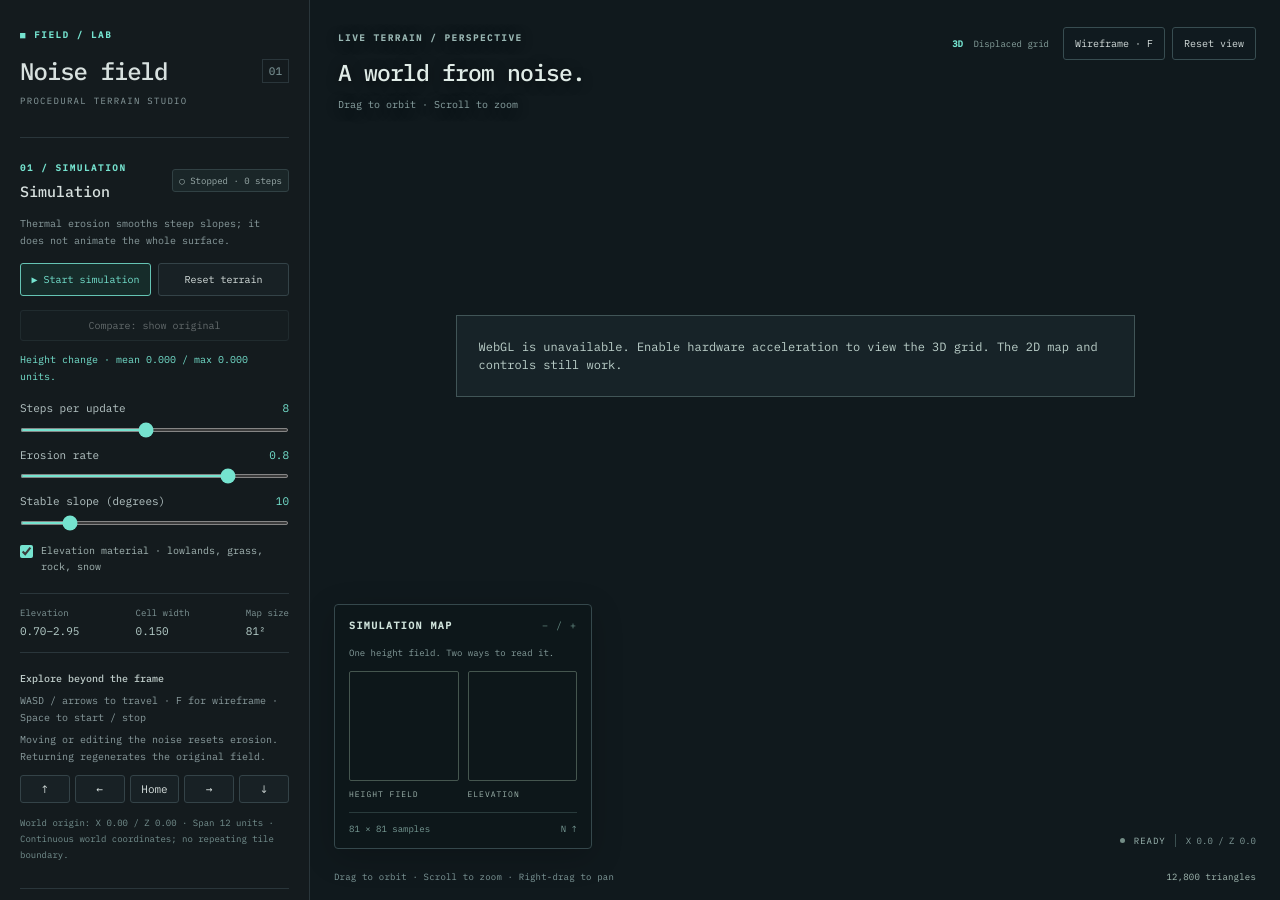
Scenario: keyboard shortcuts toggle wireframe and simulation; navigation resets the terrain
Press f
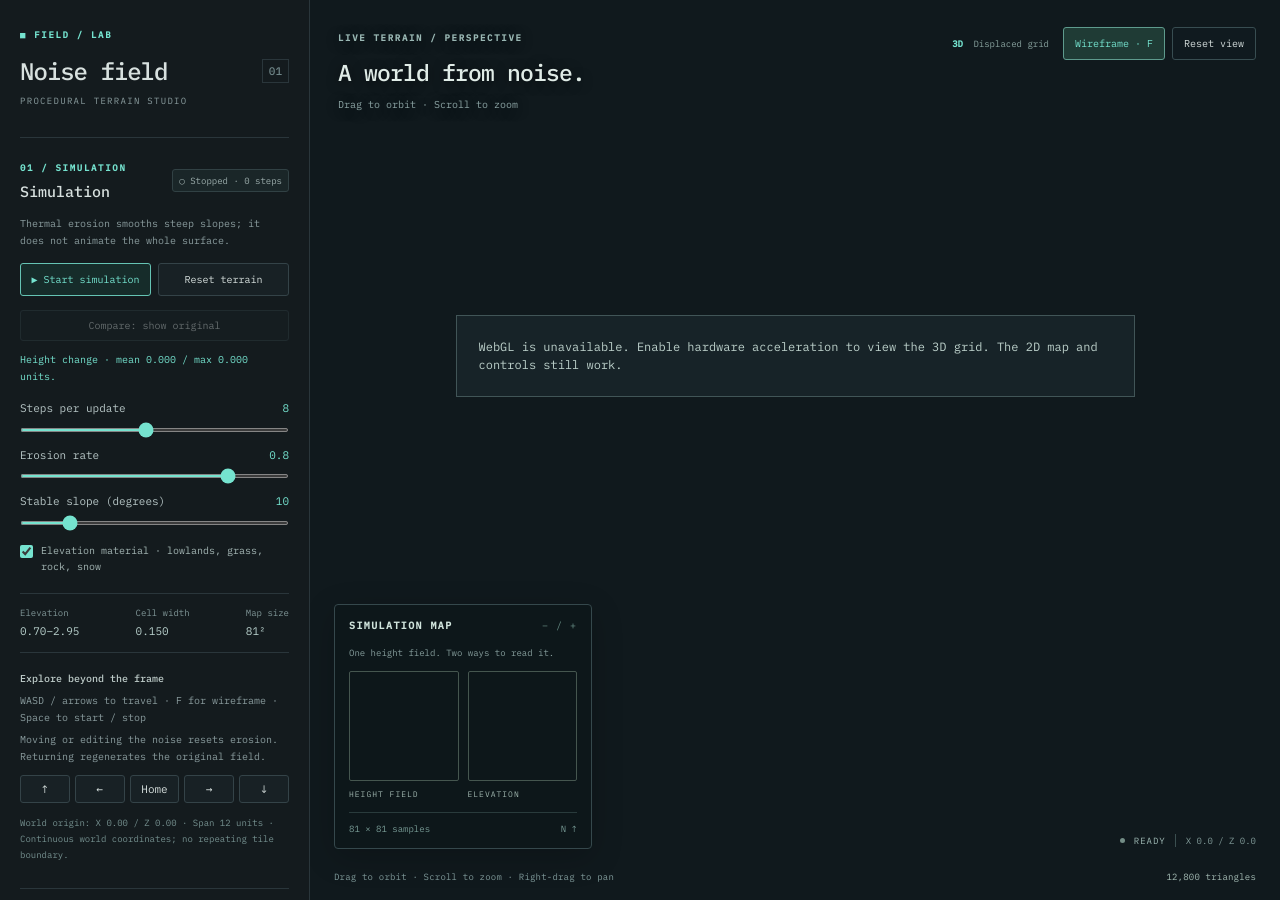
Expected: the button "Wireframe · F" is pressed, [1063, 27, 1165, 60]
Press Space
Wait 100 ms
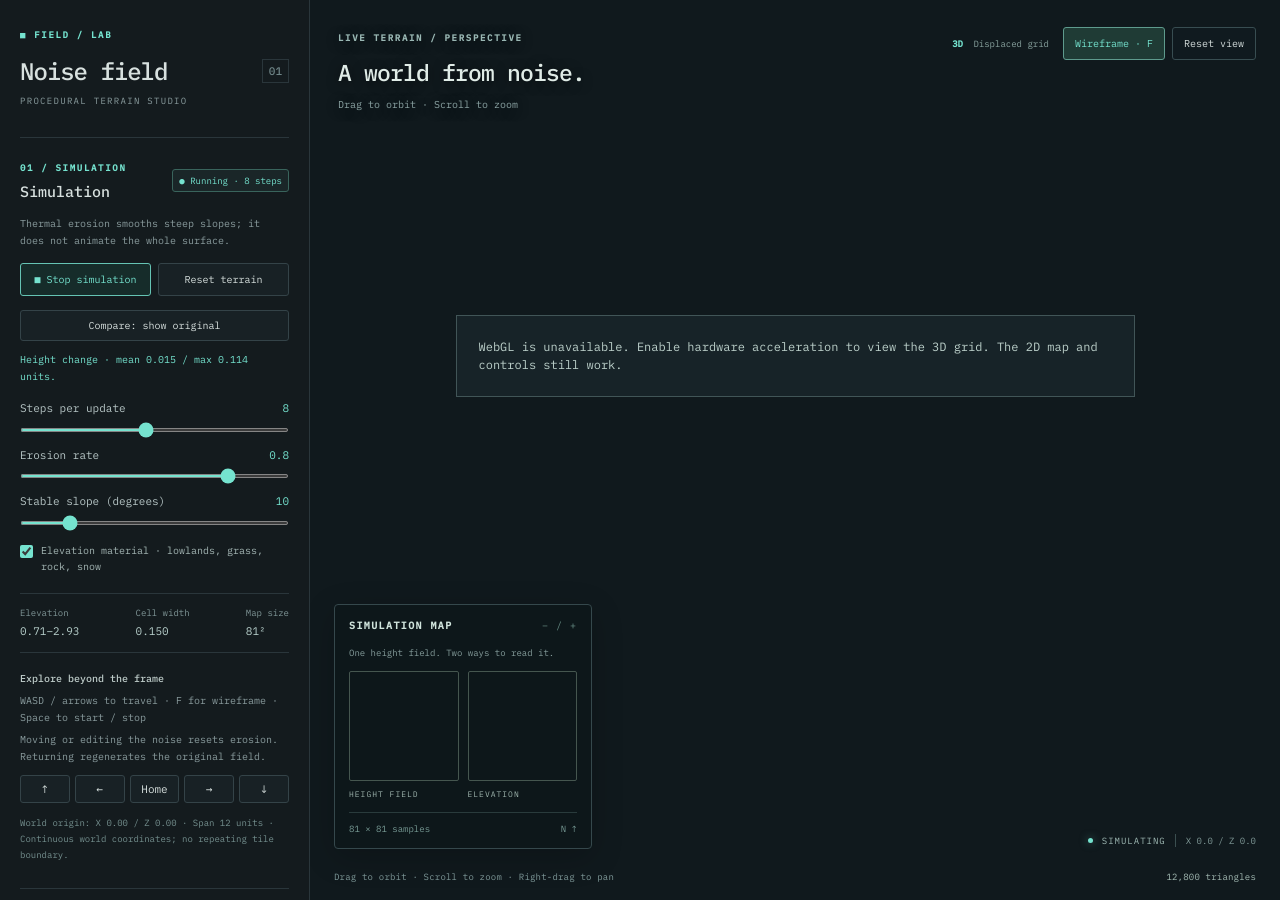
Expected: the message named "Simulation status" shows "Running · 8 steps", [172, 168, 289, 192]
Press ArrowRight
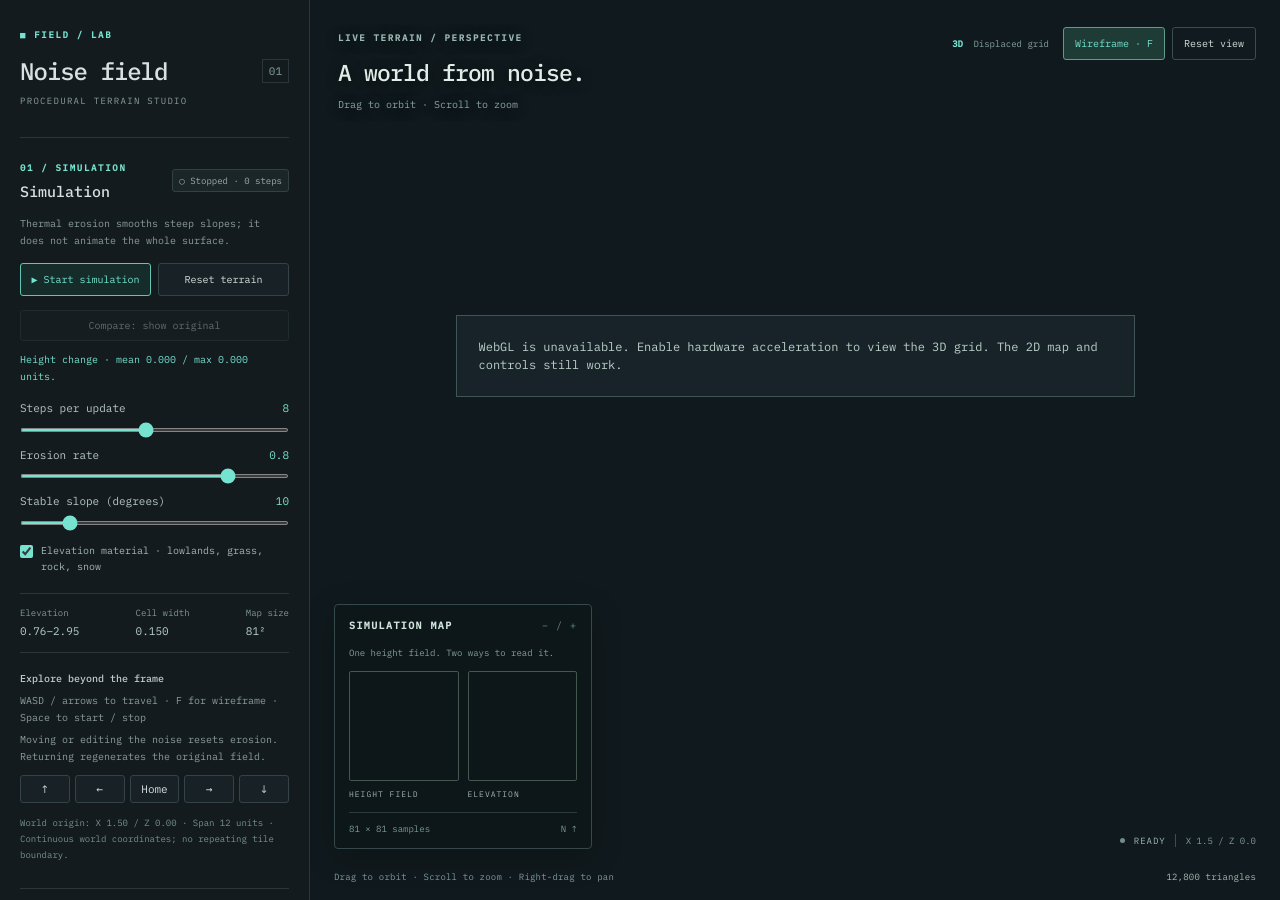
Expected: the text "World origin:" shows "X 1.50", [20, 815, 289, 864]
Expected: the message named "Simulation status" shows "Stopped · 0 steps", [172, 168, 289, 192]
Click the button "Home".
click(154, 789)  # box [130, 774, 179, 803]
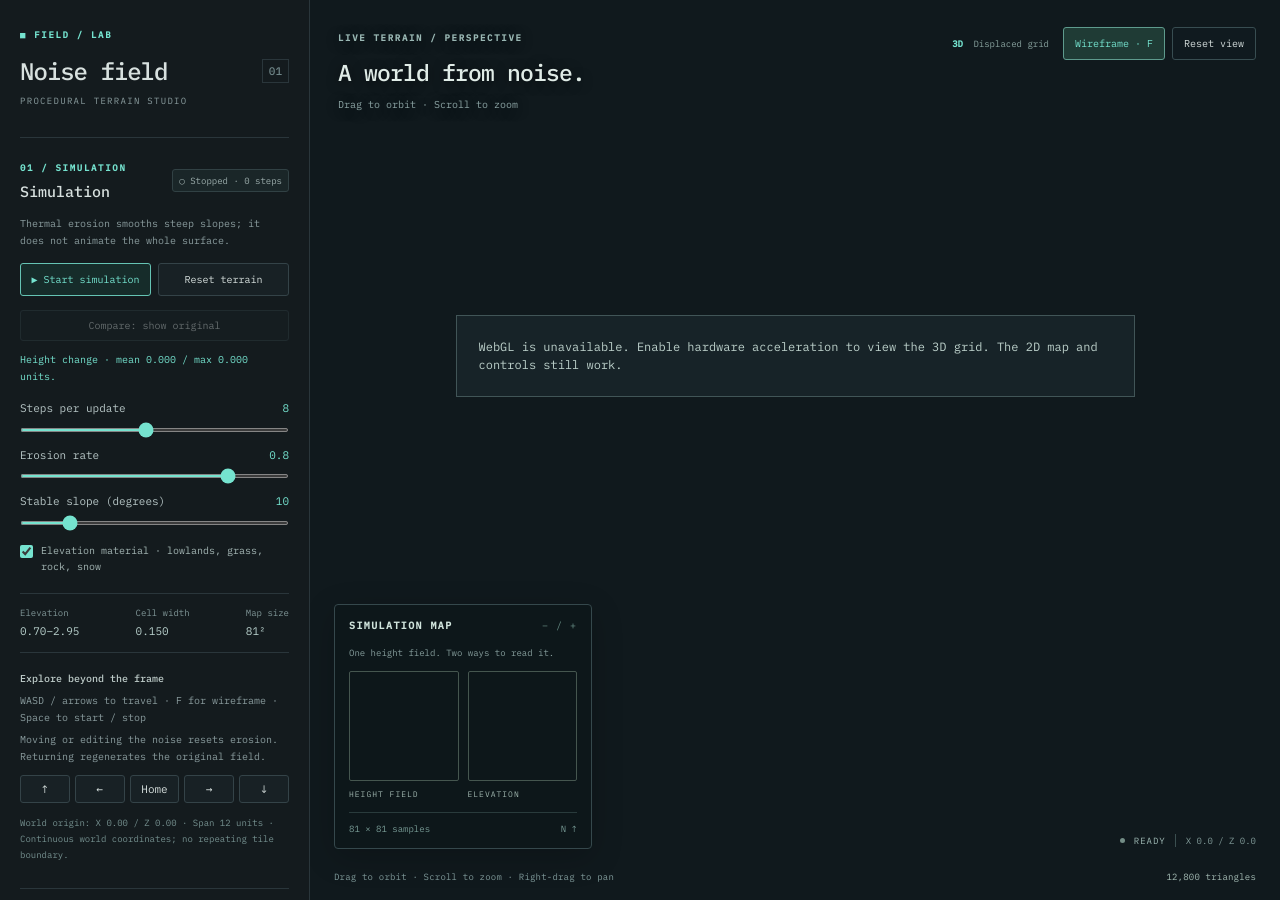
Expected: the text "World origin:" shows "X 0.00", [20, 815, 289, 864]
